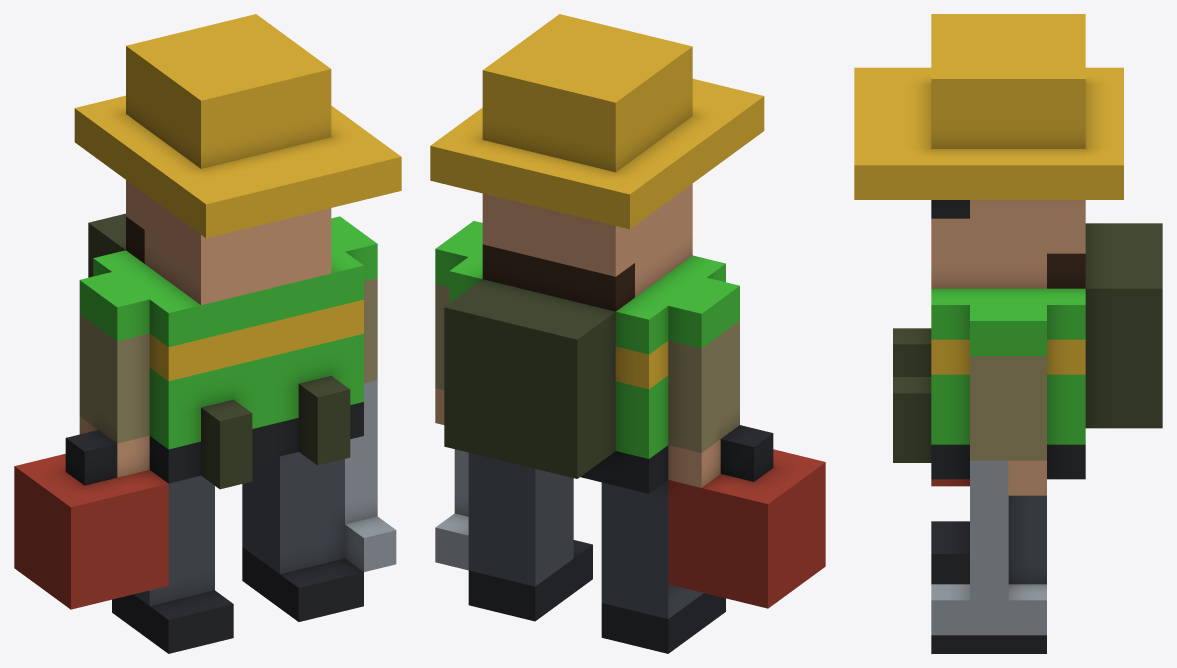
Rendered from cm_engineer_3.glb.
3 views of the same model, side by side, from view 1: azimuth 30°, elevation 25°; view 2: azimuth 150°, elevation 25°; view 3: azimuth 270°, elevation 25° (orthographic). The views are drawn at different scales.
Parts seen in each view (by area): view 1: cm_engineer_3_body; view 2: cm_engineer_3_body; view 3: cm_engineer_3_body.
Part boxes in pixels (box(x1,y1,x2,y2)): cm_engineer_3_body: box(14, 14, 401, 653); cm_engineer_3_body: box(430, 14, 825, 653); cm_engineer_3_body: box(854, 14, 1162, 653).
Bounding box in the file's own units: 0.625 × 1 × 0.5.
1 material, 1 textured.
